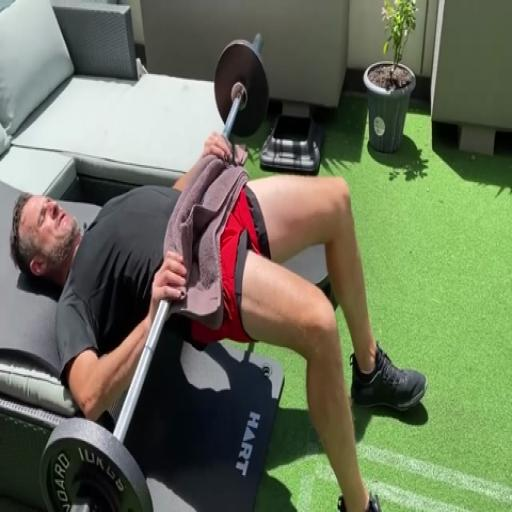exercise: (8, 130, 429, 510)
